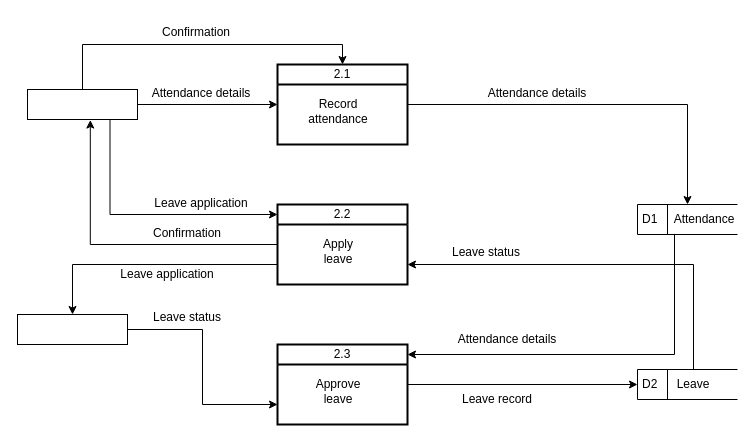
Image size: 755x442. Some labels were removed from this diagram. Here are the shapes that lost their labels. From the top down, the centre of each, then its label:
the point at 82,104: Employee
the point at 72,329: Admin
